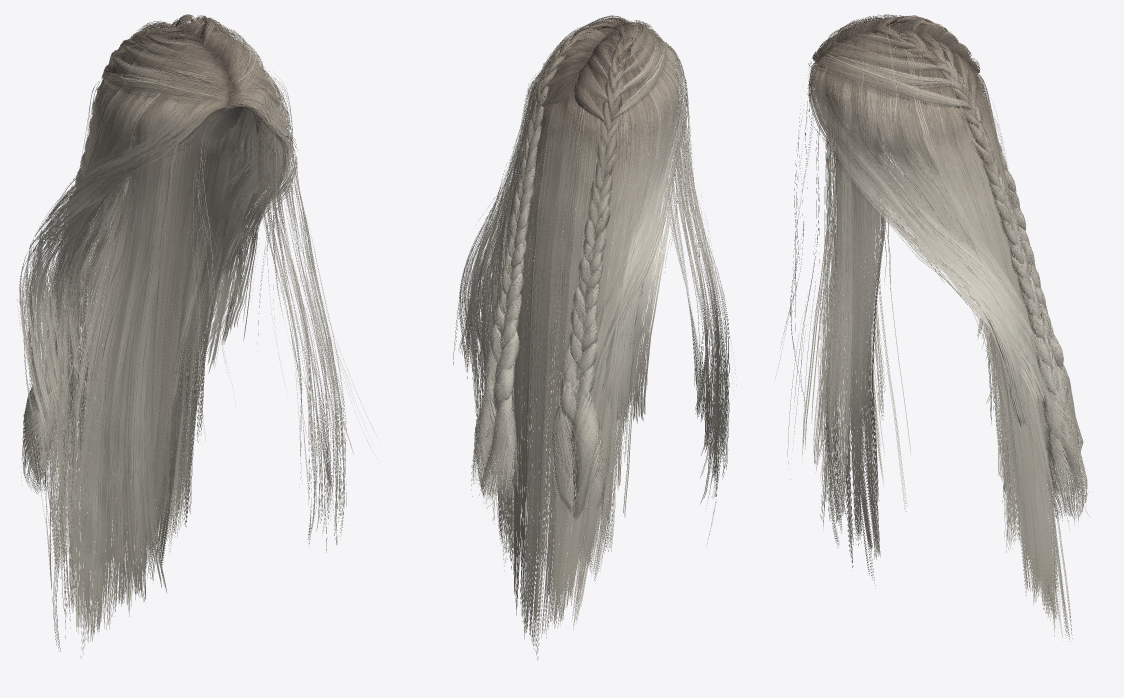
The model's file is dint_hair_15.glb.
3 views of the same model, side by side, from view 1: azimuth 30°, elevation 25°; view 2: azimuth 150°, elevation 25°; view 3: azimuth 270°, elevation 25° (orthographic). The views are drawn at different scales.
Visible parts, largest first — view 1: a4_1_a4_1, a1_4_a1_4, a3_1_a3_1, a2_1_a2_1, a4_3_a4_3, a1_2_a1_2, a2_2_a2_2, a4_2_a4_2, a1_1_a1_1, Top2_Top2, a2_4_a2_4, a4_4_a4_4 (+14 smaller); view 2: a4_3_a4_3, Braid2_Braid2, a4_4_a4_4, a4_1_a4_1, Braid1_Braid1, a3_1_a3_1, a2_1_a2_1, a3_3_a3_3, a3_4_a3_4, a2_3_a2_3, Top1_Top1, Top2_Top2 (+12 smaller); view 3: a4_2_a4_2, a4_4_a4_4, a3_2_a3_2, a2_2_a2_2, Braid2_Braid2, Braid1_Braid1, Top2_Top2, a3_4_a3_4, Top1_Top1, a1_2_a1_2, a5_3_a5_3, a2_4_a2_4 (+10 smaller).
Boxes of the visible parts, x1,y1,x2,y2 form: a4_1_a4_1: (19,44,231,651); a1_4_a1_4: (116,32,251,549); a3_1_a3_1: (19,45,227,613); a2_1_a2_1: (24,49,227,564); a4_3_a4_3: (44,28,206,658); a1_2_a1_2: (154,48,338,509); a2_2_a2_2: (155,40,341,546); a4_2_a4_2: (170,24,346,552); a1_1_a1_1: (41,102,208,537); Top2_Top2: (101,14,265,104); a2_4_a2_4: (99,30,246,603); a4_4_a4_4: (90,22,273,641); a4_3_a4_3: (533,29,672,660); Braid2_Braid2: (472,22,632,521); a4_4_a4_4: (490,27,611,645); a4_1_a4_1: (552,26,729,543); Braid1_Braid1: (474,22,632,489); a3_1_a3_1: (547,31,727,511); a2_1_a2_1: (565,48,720,519); a3_3_a3_3: (535,32,671,641); a3_4_a3_4: (492,28,607,641); a2_3_a2_3: (541,45,659,611); Top1_Top1: (535,17,666,124); Top2_Top2: (535,15,668,122); a4_2_a4_2: (808,33,1061,588); a4_4_a4_4: (877,33,1072,644); a3_2_a3_2: (812,36,1051,545); a2_2_a2_2: (810,43,1050,559); Braid2_Braid2: (874,15,1087,521); Braid1_Braid1: (872,16,1080,497); Top2_Top2: (815,15,979,109); a3_4_a3_4: (884,48,1068,636); Top1_Top1: (819,17,978,109); a1_2_a1_2: (815,45,1040,516); a5_3_a5_3: (787,33,1050,479); a2_4_a2_4: (897,58,1053,604).
Size of the model in its own units: 0.396 by 0.9186 by 0.4322.
27 materials, 27 textured.
